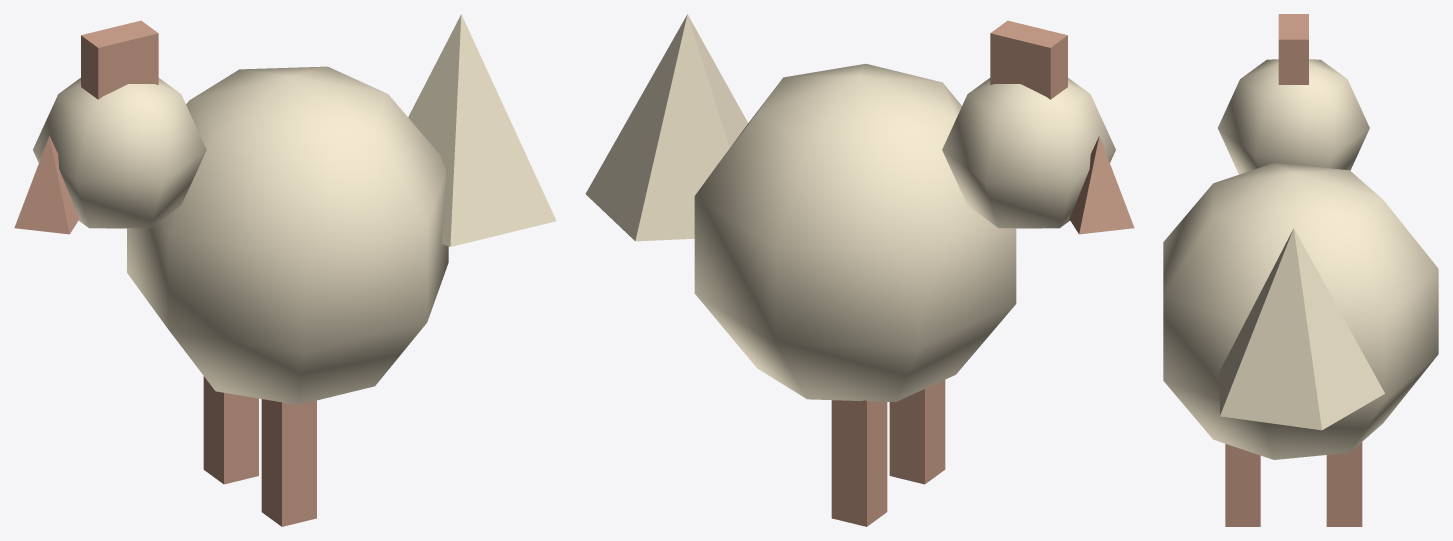
File: hen.glb
The picture shows the model from 3 angles, left to right: view 1: azimuth 30°, elevation 25°; view 2: azimuth 150°, elevation 25°; view 3: azimuth 270°, elevation 25°; orthographic projection. The views are drawn at different scales.
Parts seen in each view (by area): view 1: hen_pale, hen_comb; view 2: hen_pale, hen_comb; view 3: hen_pale, hen_comb.
Part boxes in pixels (x1=…): hen_pale: x1=33, y1=14, x2=556, y2=404; hen_comb: x1=14, y1=20, x2=316, y2=526; hen_pale: x1=585, y1=14, x2=1115, y2=402; hen_comb: x1=831, y1=20, x2=1134, y2=526; hen_pale: x1=1163, y1=59, x2=1438, y2=459; hen_comb: x1=1225, y1=14, x2=1362, y2=526.
Size of the model in its own units: 0.1769 by 0.1567 by 0.0904.
